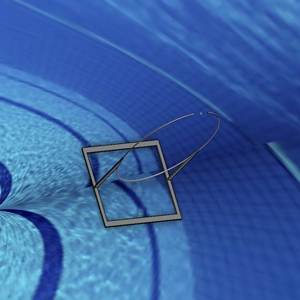circle: (78, 107, 224, 228)
